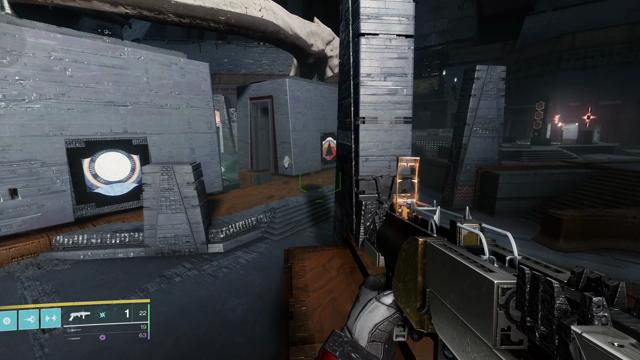pyramid: (323, 137, 336, 160)
traveler: (81, 149, 142, 196)
